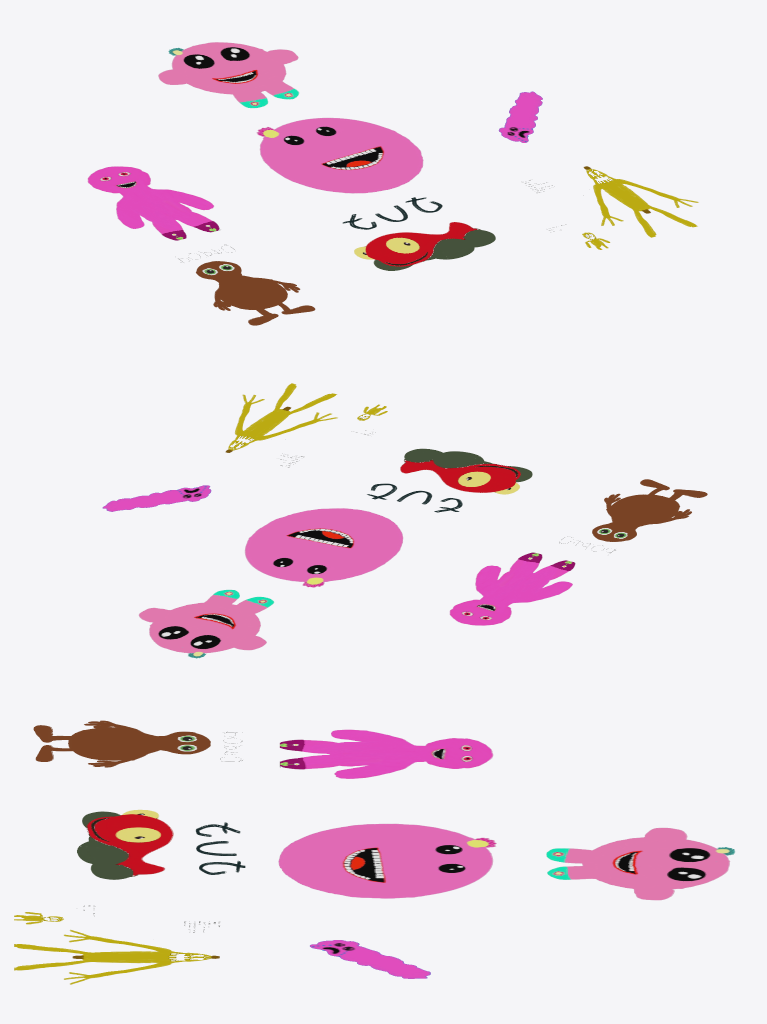
The model's file is Drawings.fbx.
The picture shows the model from 3 angles, top to bottom: view 1: azimuth 30°, elevation 25°; view 2: azimuth 150°, elevation 25°; view 3: azimuth 270°, elevation 25°; orthographic projection. The views are drawn at different scales.
Parts seen in each view (by area): view 1: pPlane6, pPlane8, pPlane5, pPlane3, pPlane4, pPlane2, pPlane7; view 2: pPlane6, pPlane8, pPlane5, pPlane3, pPlane4, pPlane2, pPlane7; view 3: pPlane6, pPlane8, pPlane5, pPlane3, pPlane4, pPlane2, pPlane7.
Boxes of the visible parts, box(x1,y1,x2,y2) form: pPlane6: box(256, 117, 423, 193); pPlane8: box(158, 42, 299, 108); pPlane5: box(87, 166, 220, 240); pPlane3: box(342, 197, 495, 270); pPlane4: box(175, 244, 315, 325); pPlane2: box(521, 166, 698, 249); pPlane7: box(498, 91, 542, 142); pPlane6: box(244, 508, 403, 587); pPlane8: box(138, 589, 274, 658); pPlane5: box(449, 552, 575, 625); pPlane3: box(366, 448, 532, 512); pPlane4: box(559, 479, 707, 553); pPlane2: box(225, 383, 387, 467); pPlane7: box(102, 485, 211, 511); pPlane6: box(278, 823, 496, 898); pPlane8: box(546, 827, 735, 900); pPlane5: box(279, 729, 493, 778); pPlane3: box(77, 809, 245, 879); pPlane4: box(33, 720, 242, 767); pPlane2: box(14, 905, 220, 984); pPlane7: box(310, 940, 430, 978).
Size of the model in its own units: 1362 by 0 by 1396.
Materials: 7 (7 with a texture image).
